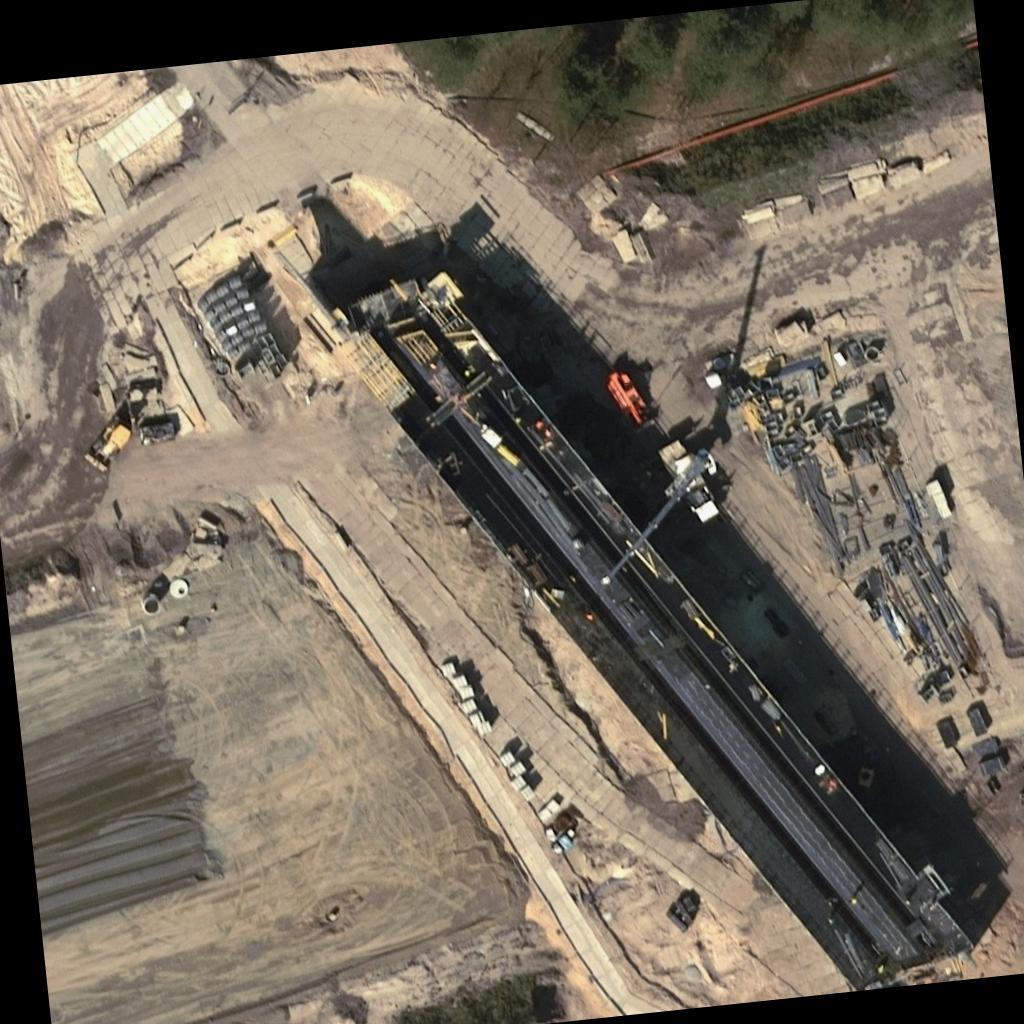koparka: (598, 361, 662, 438)
spychacz: (74, 414, 142, 478)
zuraw_mobilny: (582, 432, 732, 590)
